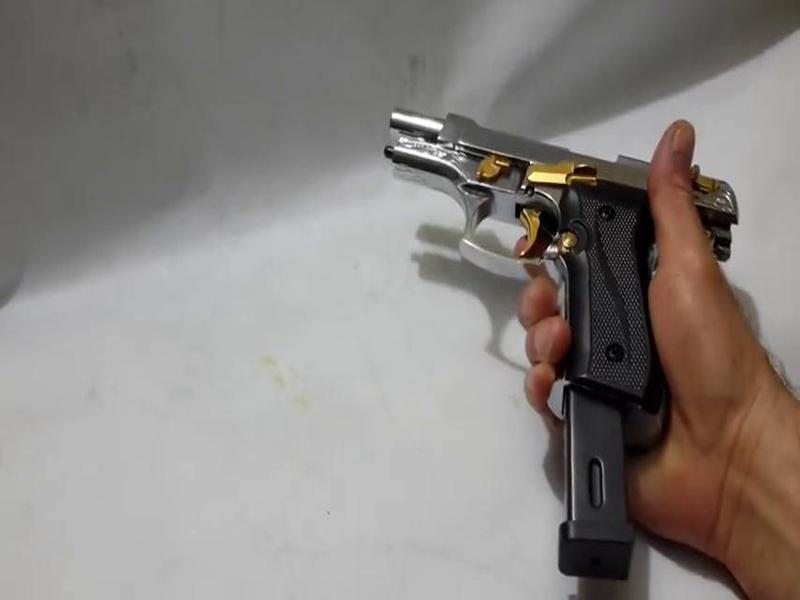Pistola: (378, 83, 763, 422)
